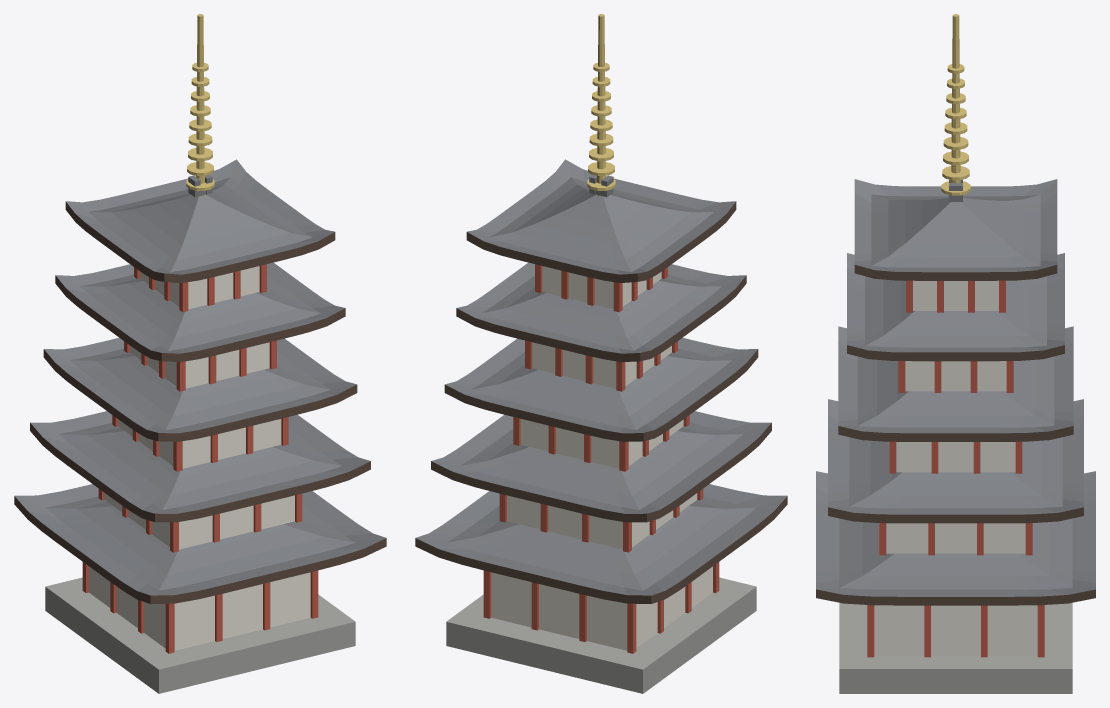
The model's file is pagoda.glb.
3 views of the same model, side by side, from view 1: azimuth 30°, elevation 25°; view 2: azimuth 150°, elevation 25°; view 3: azimuth 270°, elevation 25° (orthographic). The views are drawn at different scales.
Parts seen in each view (by area): view 1: Pagoda; view 2: Pagoda; view 3: Pagoda.
Boxes of the visible parts, x1=… form: Pagoda: x1=14, y1=14, x2=386, y2=693; Pagoda: x1=415, y1=14, x2=787, y2=693; Pagoda: x1=816, y1=14, x2=1095, y2=693.
Bounding box in the file's own units: 10.2 × 25.3 × 10.2.
